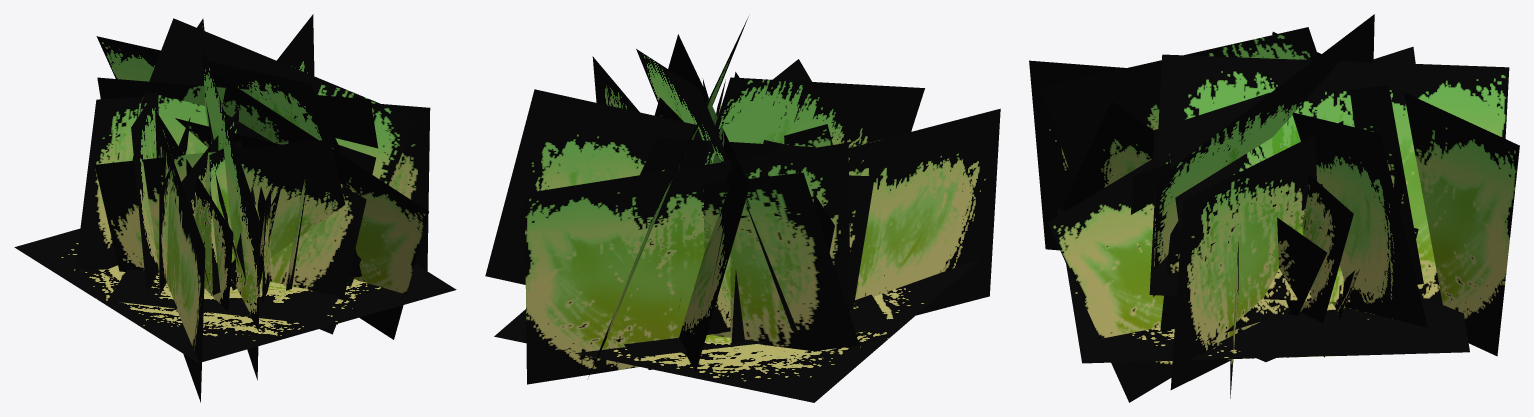
File: grass34.fbx
3 views of the same model, side by side, from view 1: azimuth 30°, elevation 25°; view 2: azimuth 150°, elevation 25°; view 3: azimuth 270°, elevation 25° (orthographic). The views are drawn at different scales.
Visible parts, largest first — view 1: grass4_BAKED; view 2: grass4_BAKED; view 3: grass4_BAKED.
Part boxes in pixels (bbox=[...]): grass4_BAKED: bbox=[14, 14, 456, 402]; grass4_BAKED: bbox=[485, 16, 1000, 402]; grass4_BAKED: bbox=[1029, 14, 1519, 402].
Bounding box in the file's own units: 47.53 × 40.08 × 35.11.
